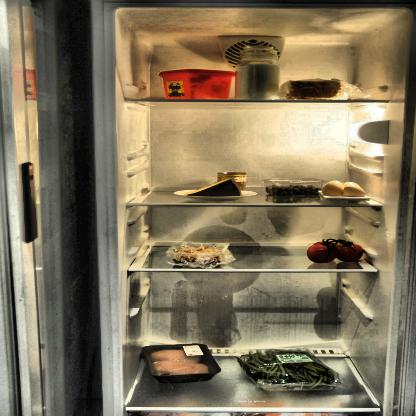blueberries: (266, 183, 321, 198)
butter: (158, 68, 236, 102)
cheese: (188, 177, 245, 196)
chicken: (146, 345, 218, 380)
corn: (218, 174, 248, 190)
eggs: (322, 179, 368, 198)
green_beans: (238, 348, 346, 388)
shrimp: (170, 242, 224, 266)
tomato: (308, 238, 366, 262)
